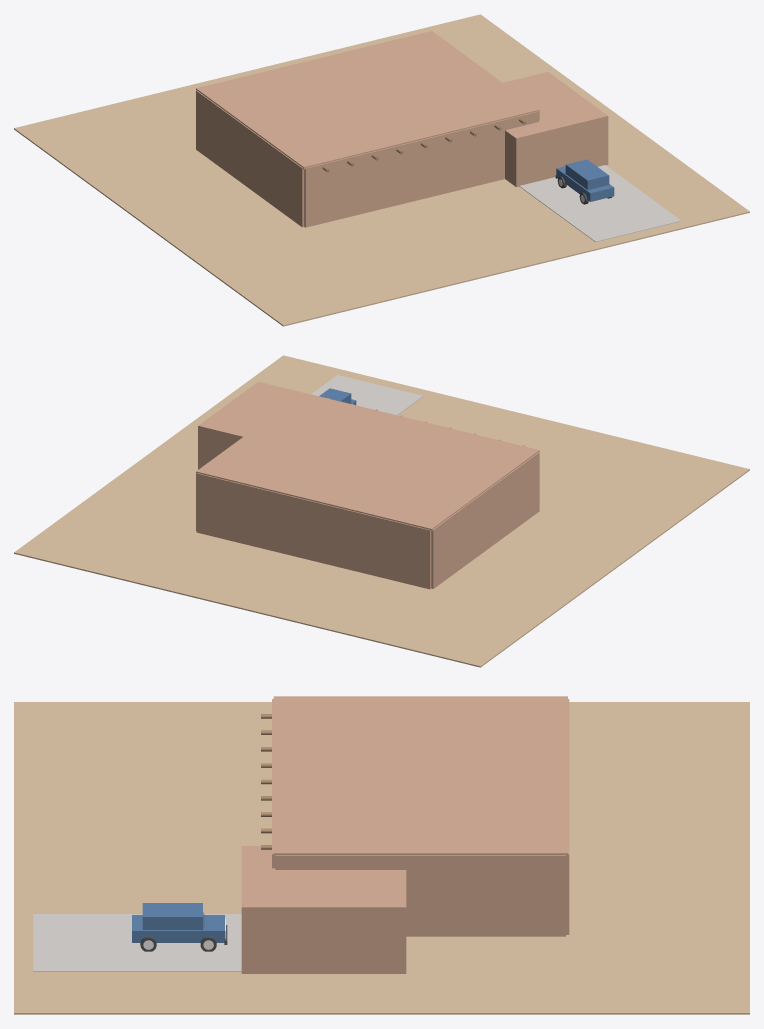
Rendered from hank_marie_house.glb.
3 views of the same model, one above another, from view 1: azimuth 30°, elevation 25°; view 2: azimuth 150°, elevation 25°; view 3: azimuth 270°, elevation 25° (orthographic). The views are drawn at different scales.
Parts seen in each view (by area): view 1: Hank_Marie_House_lot, Hank_Marie_House_roof, Hank_Marie_House_ws, Hank_Marie_House_garage, Hank_Marie_House_ww, Hank_Marie_House_drive, Hank_Marie_House_Jeep_cabin, Hank_Marie_House_Jeep_body; view 2: Hank_Marie_House_lot, Hank_Marie_House_roof, Hank_Marie_House_wn, Hank_Marie_House_ww, Hank_Marie_House_garage, Hank_Marie_House_drive; view 3: Hank_Marie_House_lot, Hank_Marie_House_roof, Hank_Marie_House_garage, Hank_Marie_House_we, Hank_Marie_House_drive, Hank_Marie_House_Jeep_cabin, Hank_Marie_House_Jeep_body, Hank_Marie_House_wn.
Part boxes in pixels (<box>): Hank_Marie_House_lot: <box>14,14,749,326</box>; Hank_Marie_House_roof: <box>196,31,539,169</box>; Hank_Marie_House_ws: <box>304,111,538,227</box>; Hank_Marie_House_garage: <box>503,72,608,187</box>; Hank_Marie_House_ww: <box>196,90,304,227</box>; Hank_Marie_House_drive: <box>519,165,681,242</box>; Hank_Marie_House_Jeep_cabin: <box>565,159,609,189</box>; Hank_Marie_House_Jeep_body: <box>556,166,614,201</box>; Hank_Marie_House_lot: <box>14,355,749,667</box>; Hank_Marie_House_roof: <box>196,392,539,531</box>; Hank_Marie_House_wn: <box>196,473,431,589</box>; Hank_Marie_House_ww: <box>431,452,539,588</box>; Hank_Marie_House_garage: <box>198,381,303,469</box>; Hank_Marie_House_drive: <box>311,375,423,415</box>; Hank_Marie_House_lot: <box>14,702,749,1014</box>; Hank_Marie_House_roof: <box>273,696,567,856</box>; Hank_Marie_House_garage: <box>241,846,406,973</box>; Hank_Marie_House_we: <box>275,855,565,936</box>; Hank_Marie_House_drive: <box>33,914,241,971</box>; Hank_Marie_House_Jeep_cabin: <box>142,903,202,929</box>; Hank_Marie_House_Jeep_body: <box>132,915,224,942</box>; Hank_Marie_House_wn: <box>566,699,569,934</box>.
Size of what is drawn, in the model's own units: 38 by 4.8 by 38.
